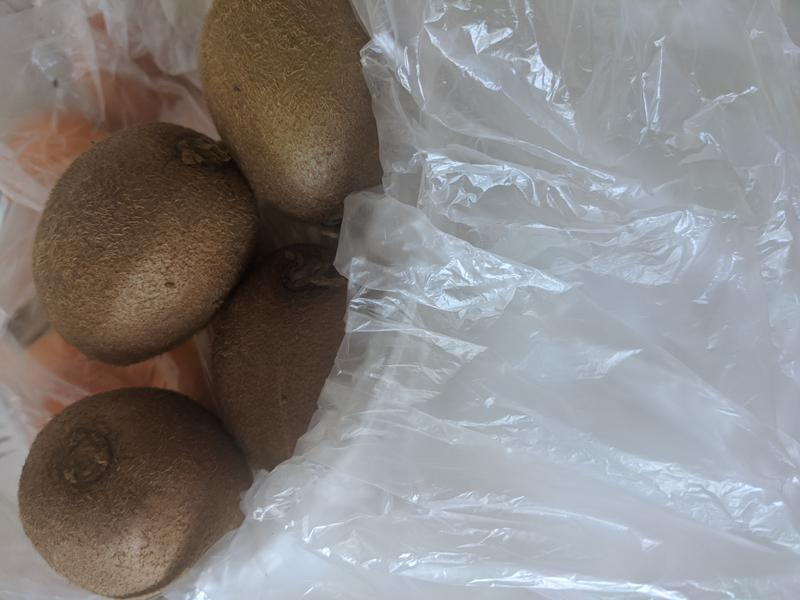kiwi: (31, 121, 261, 367), (16, 387, 257, 600), (199, 1, 385, 230), (209, 243, 353, 479)
